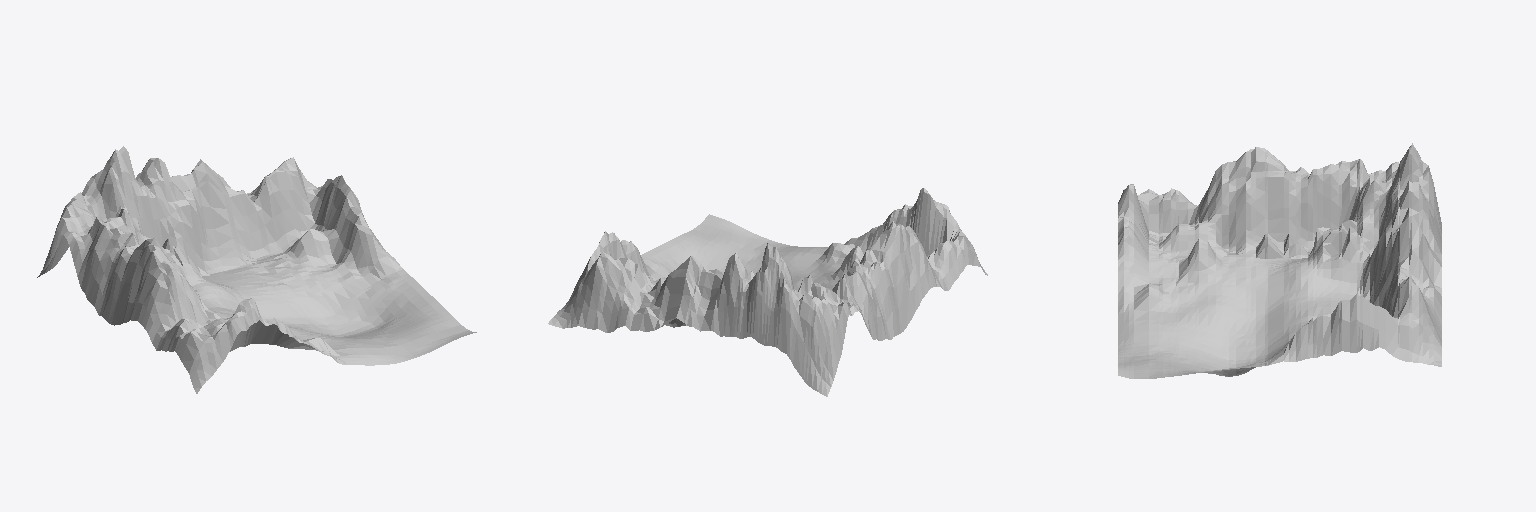
Rendered from EnvTerrain.obj.
3 renders of one model, left to right at view 1: azimuth 30°, elevation 25°; view 2: azimuth 150°, elevation 25°; view 3: azimuth 270°, elevation 25°, orthographic.
Parts seen in each view (by area): view 1: EnvTerrain:Mesh; view 2: EnvTerrain:Mesh; view 3: EnvTerrain:Mesh.
Boxes of the visible parts, <box> form: EnvTerrain:Mesh: <box>37,146,476,393</box>; EnvTerrain:Mesh: <box>548,188,987,396</box>; EnvTerrain:Mesh: <box>1118,143,1441,378</box>.
Bounding box in the file's own units: 998 × 530 × 998.